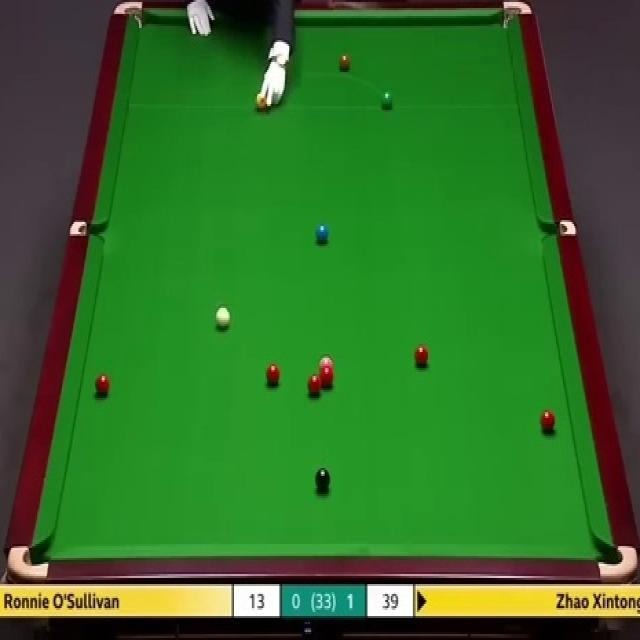pocket: (7, 543, 50, 579), (597, 545, 637, 583), (502, 0, 536, 31), (112, 0, 142, 34), (72, 218, 104, 240), (543, 220, 576, 240)
